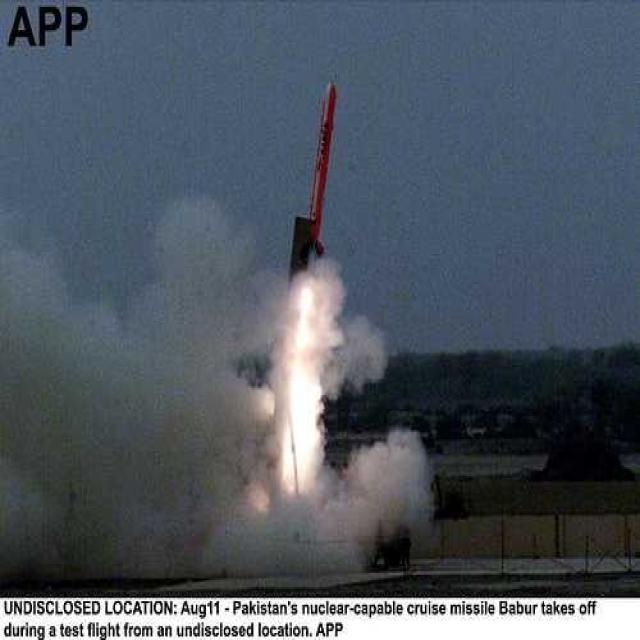missile: (297, 78, 343, 259)
